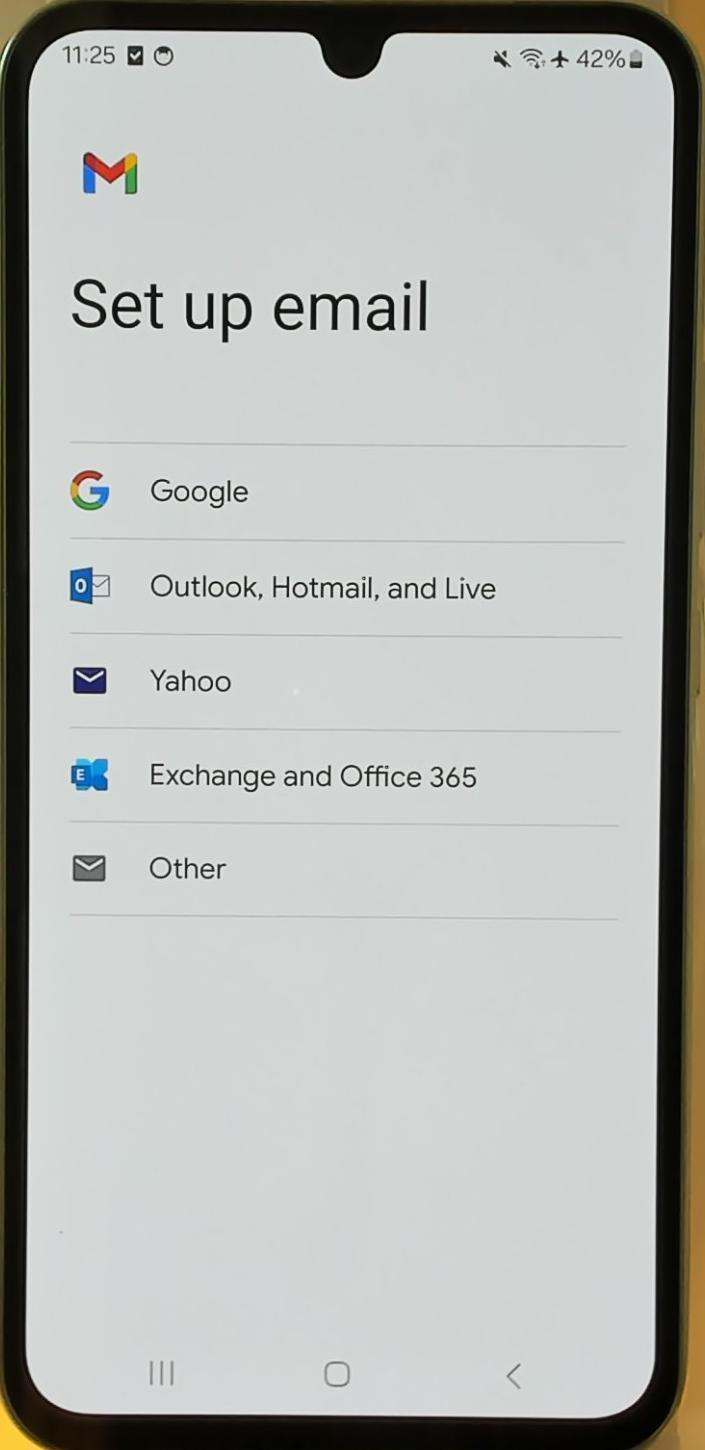CommunBotton: (55, 439, 672, 546), (59, 820, 626, 925), (58, 544, 664, 640), (62, 730, 626, 829), (54, 646, 628, 736), (143, 1347, 186, 1395), (493, 1350, 533, 1398), (315, 1352, 358, 1395)
